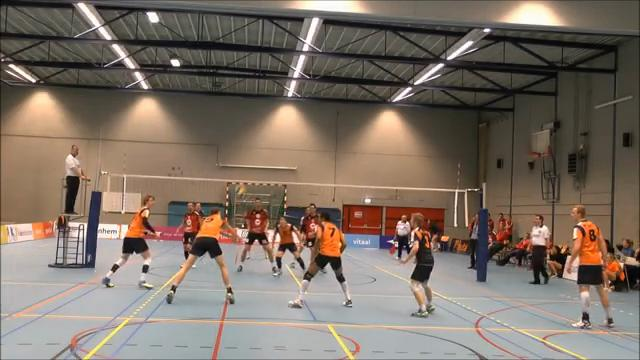ricezione: (164, 207, 247, 304)
